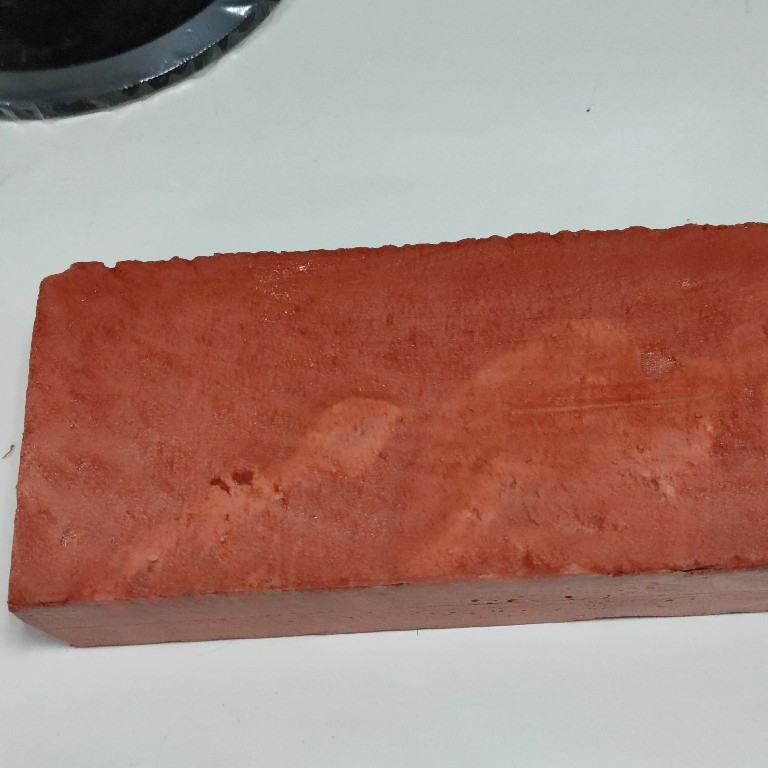brick: (3, 226, 768, 651)
